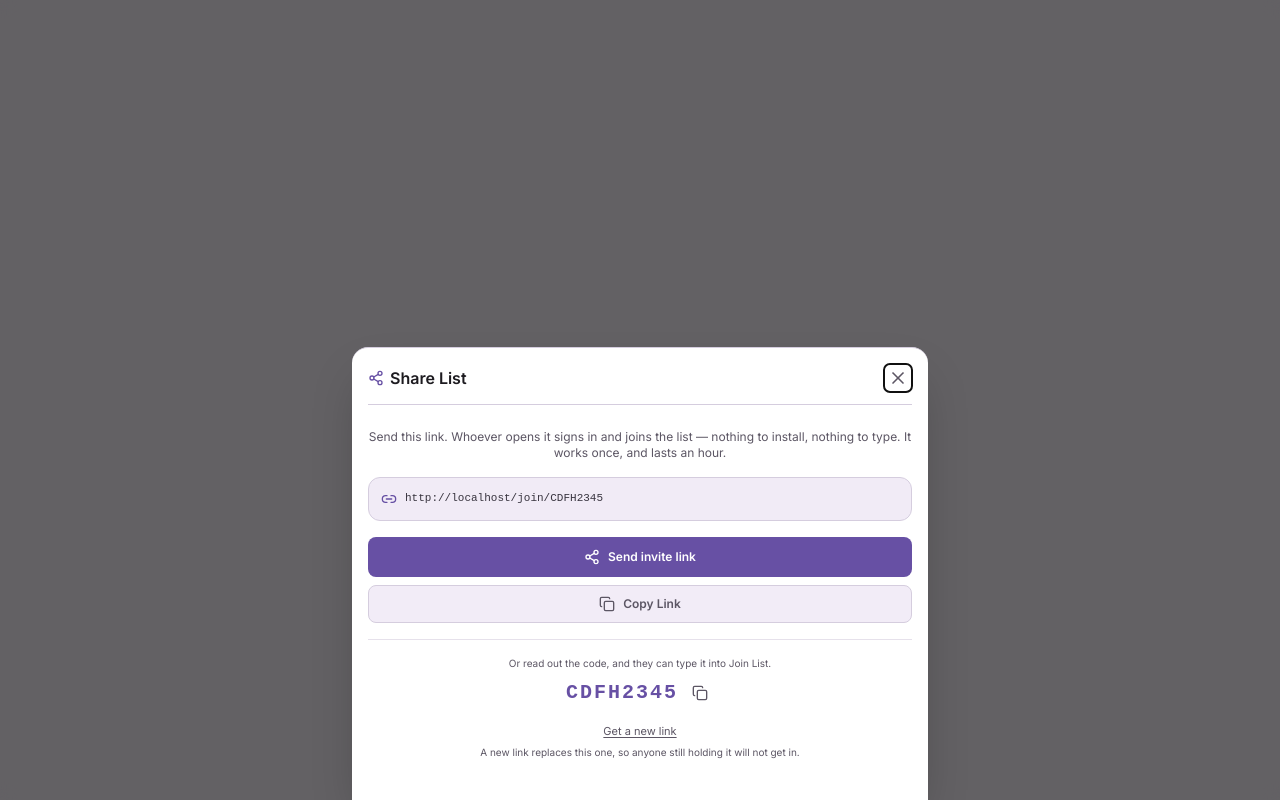
Test: ShareListSheet › mints a new code only when asked to
Expected: the text "CDFH2345" is shown, [566, 678, 678, 706]
Click the button "Get a new link" at x=640, y=731, box [603, 722, 677, 739]
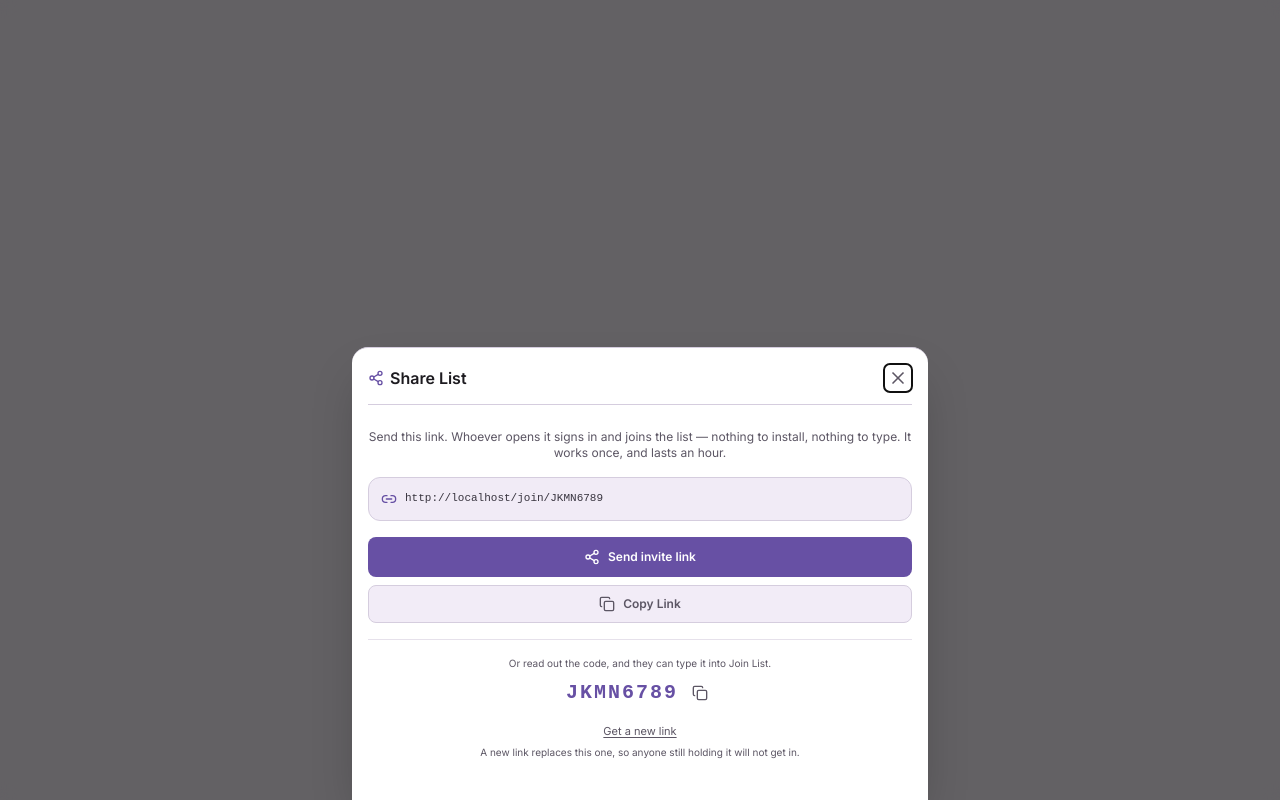
Expected: the text "JKMN6789" is shown, [566, 678, 678, 706]
